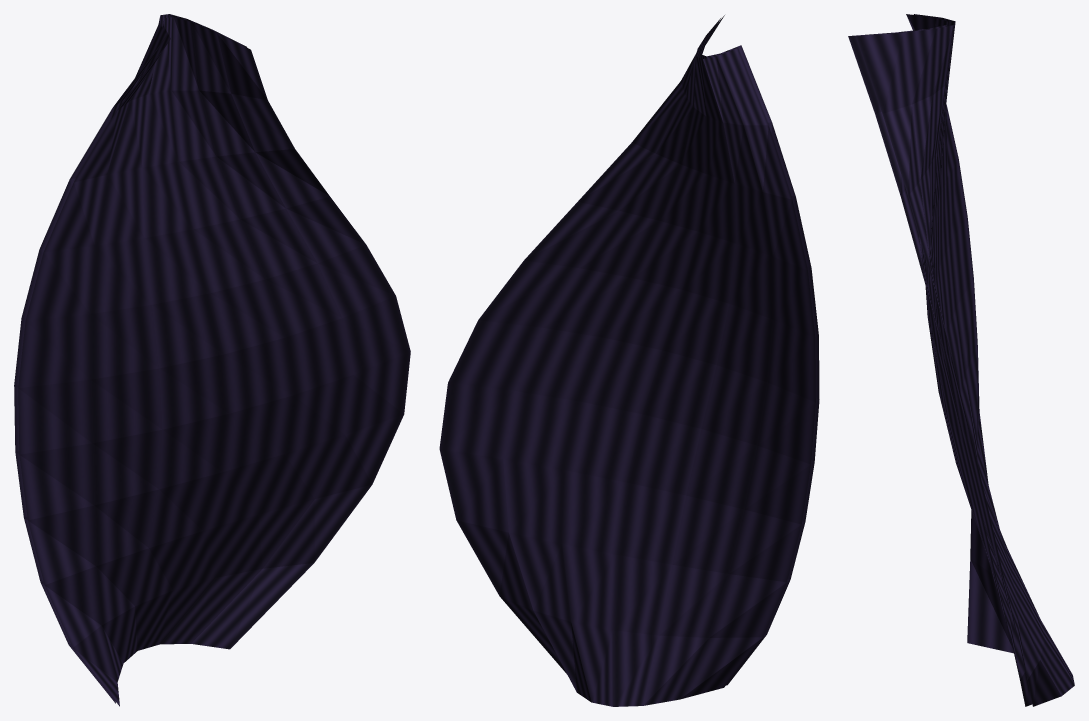
The model's file is feather_hero.glb.
3 renders of one model, left to right at view 1: azimuth 30°, elevation 25°; view 2: azimuth 150°, elevation 25°; view 3: azimuth 270°, elevation 25°, orthographic. The views are drawn at different scales.
Visible parts, largest first — view 1: world; view 2: world; view 3: world.
Part boxes in pixels (x1,y1,x2,y2): world: (14, 14, 410, 706); world: (439, 15, 819, 706); world: (848, 14, 1074, 706).
Bounding box in the file's own units: 0.6878 × 1.12 × 0.3614.
Materials: 1 (1 with a texture image).
